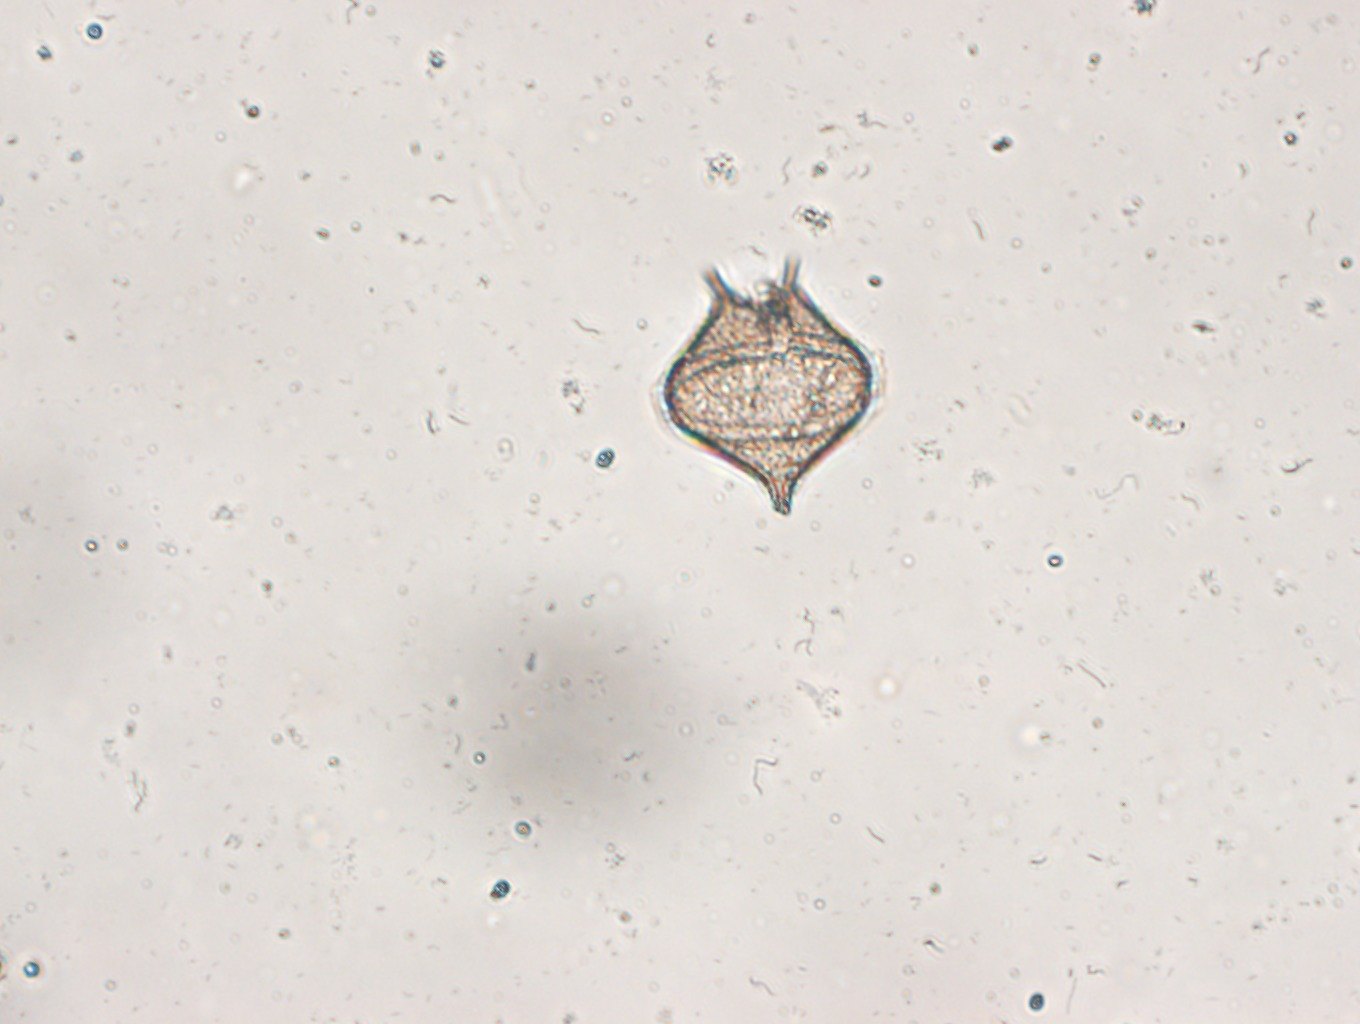protoperidinium: (655, 255, 882, 520)
